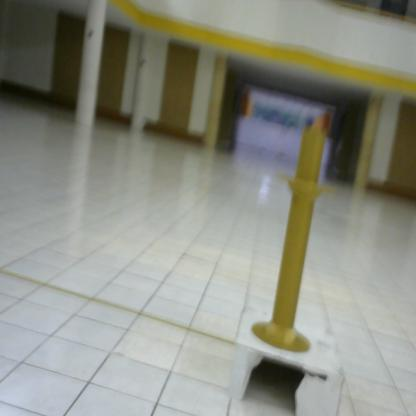pole: (247, 115, 340, 371)
